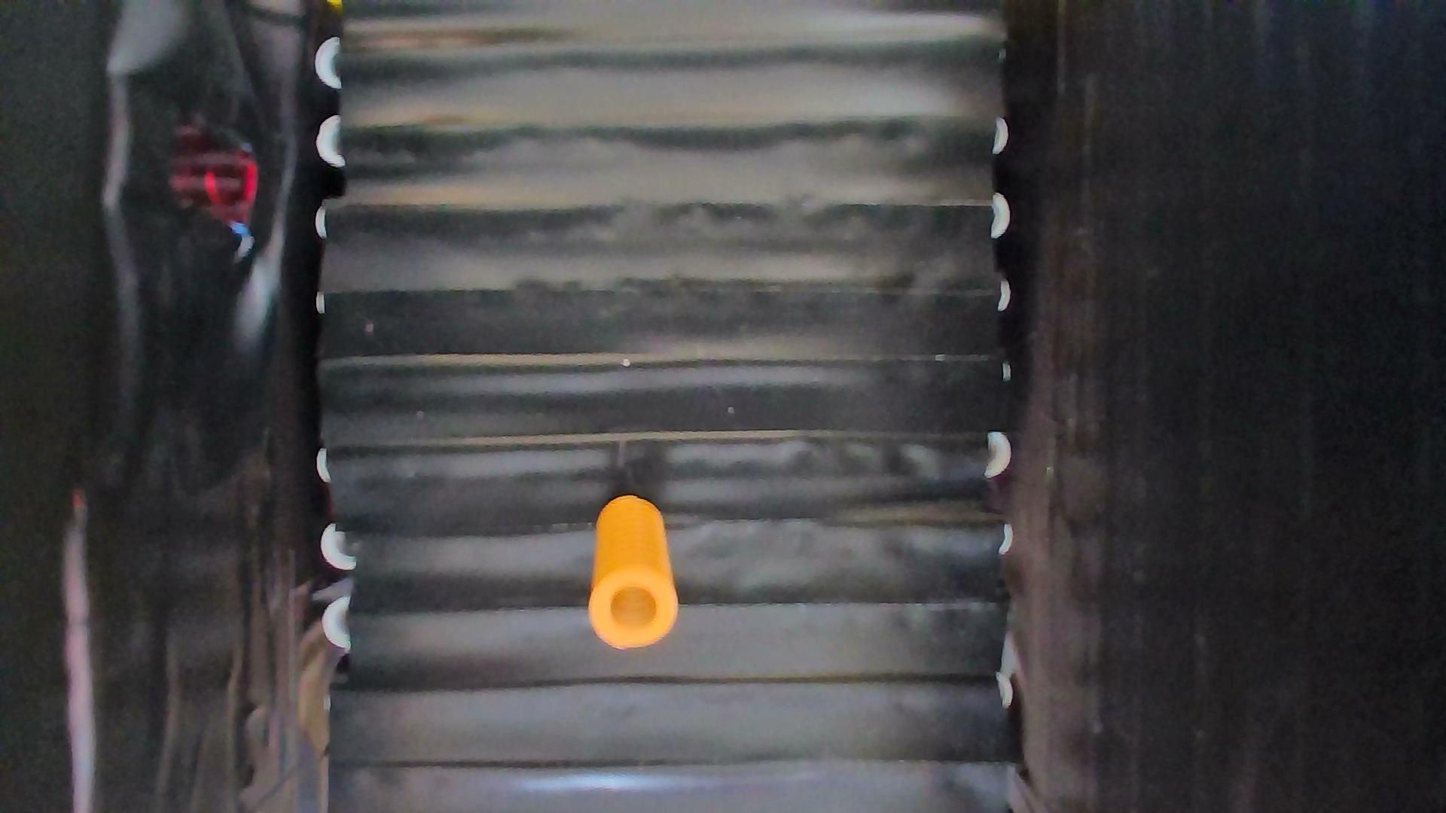spring: (586, 496, 677, 650)
